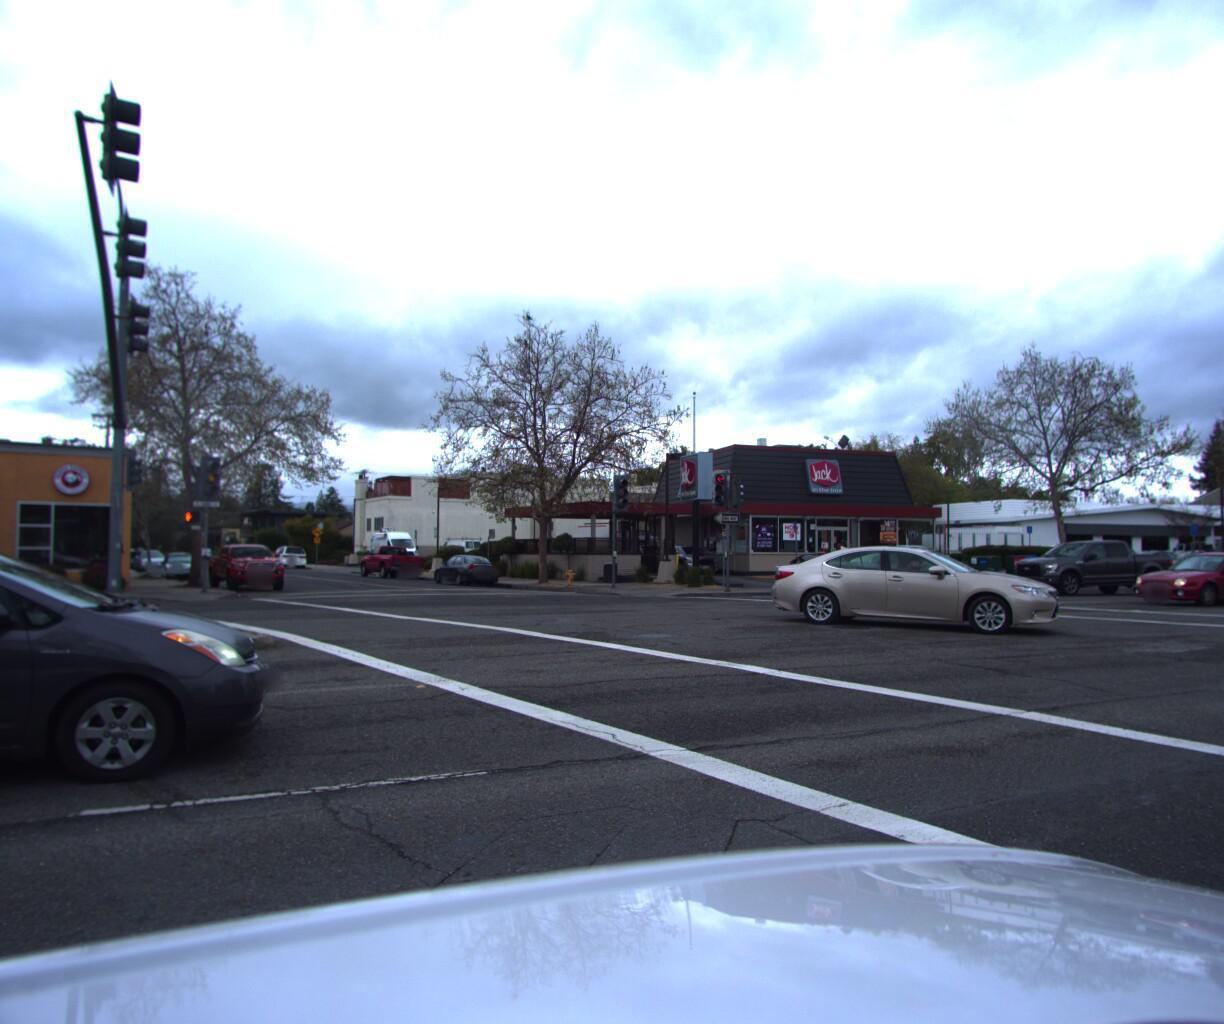car: (0, 479, 273, 875), (770, 550, 1065, 647), (1001, 553, 1170, 605), (804, 548, 952, 604), (1123, 554, 1224, 612), (206, 551, 293, 601), (359, 551, 429, 591), (433, 561, 503, 598), (1143, 547, 1220, 576), (157, 563, 206, 592), (271, 552, 313, 577), (136, 558, 176, 580)
truck: (369, 536, 423, 574)
